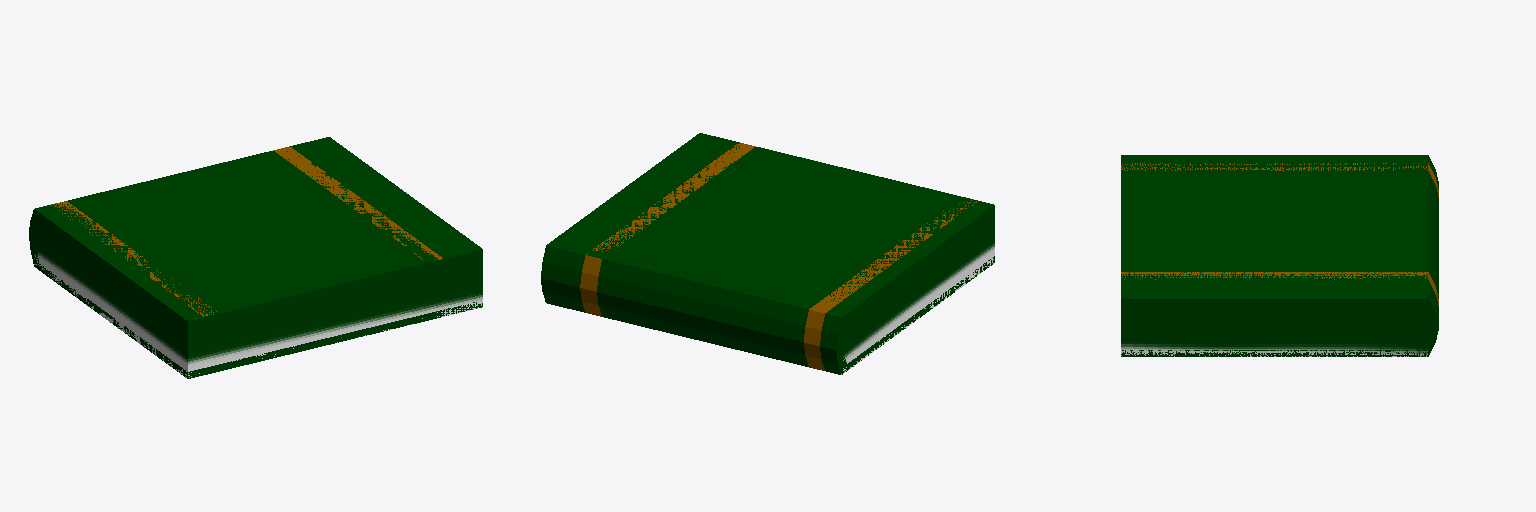
The picture shows the model from 3 angles: view 1: azimuth 30°, elevation 25°; view 2: azimuth 150°, elevation 25°; view 3: azimuth 270°, elevation 25°; orthographic projection.
Visible parts, largest first — view 1: UCX_book, book; view 2: book, UCX_book; view 3: UCX_book, book.
Part boxes in pixels (x1,y1,x2,y2): UCX_book: (34, 137, 482, 377); book: (29, 137, 482, 378); book: (541, 133, 994, 374); UCX_book: (548, 133, 994, 374); UCX_book: (1121, 155, 1427, 356); book: (1121, 155, 1438, 356).
Bounding box in the file's own units: 2.17 × 0.4062 × 2.02.
1 materials, 1 textured.